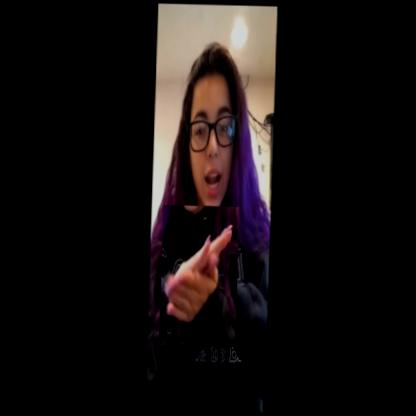NiceToMeetYou: (160, 204, 240, 346)
